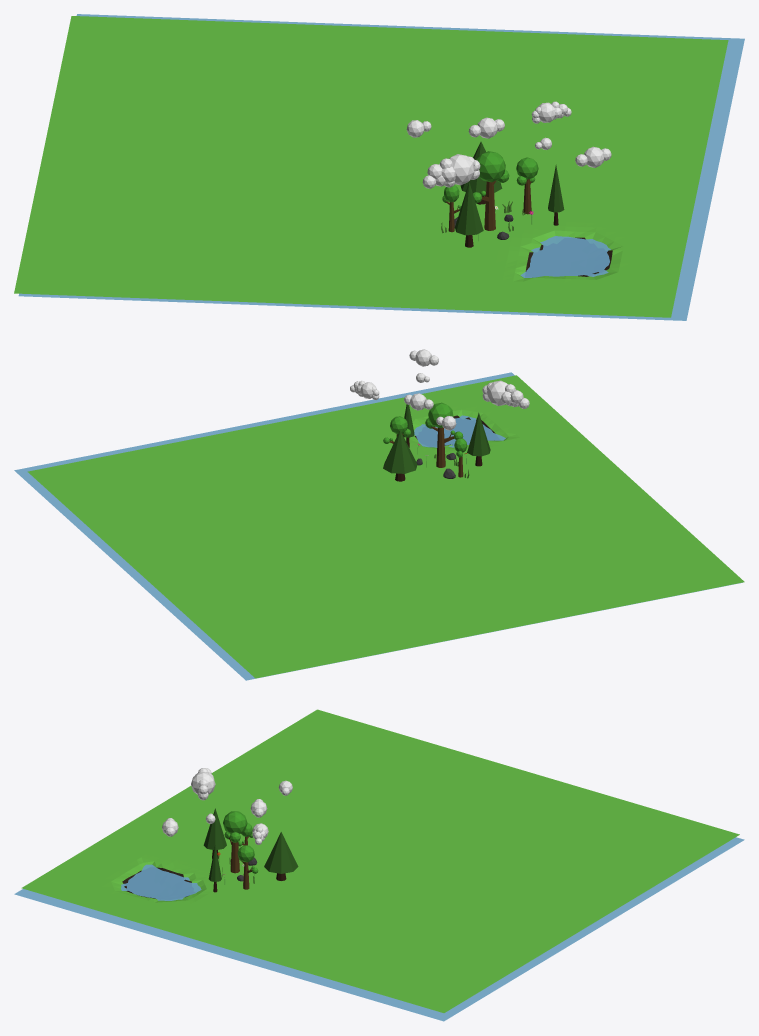
The model's file is assets.dae.
The picture shows the model from 3 angles, top to bottom: view 1: azimuth 30°, elevation 25°; view 2: azimuth 150°, elevation 25°; view 3: azimuth 270°, elevation 25°; orthographic projection. The views are drawn at different scales.
Parts seen in each view (by area): view 1: Plane, Plane_001, Icosphere_005, Cylinder, Cylinder_006, Cylinder_001, Icosphere_006, Icosphere_004, Icosphere_008, Cylinder_008; view 2: Plane, Plane_001, Cylinder_007, Cylinder, Icosphere_005, Cylinder_006; view 3: Plane, Plane_001, Cylinder_007, Cylinder, Icosphere_005, Cylinder_006.
Boxes of the visible parts, bbox=[...] form: Plane: bbox=[14, 16, 728, 317]; Plane_001: bbox=[18, 14, 744, 320]; Icosphere_005: bbox=[422, 154, 480, 188]; Cylinder: bbox=[473, 151, 509, 230]; Cylinder_006: bbox=[455, 182, 483, 247]; Cylinder_001: bbox=[516, 157, 538, 214]; Icosphere_006: bbox=[531, 101, 571, 123]; Icosphere_004: bbox=[468, 117, 504, 138]; Icosphere_008: bbox=[575, 146, 611, 167]; Cylinder_008: bbox=[548, 164, 564, 225]; Plane: bbox=[27, 375, 744, 678]; Plane_001: bbox=[14, 372, 742, 680]; Cylinder_007: bbox=[383, 430, 417, 481]; Cylinder: bbox=[425, 402, 463, 467]; Icosphere_005: bbox=[482, 380, 529, 408]; Cylinder_006: bbox=[467, 412, 490, 466]; Plane: bbox=[21, 709, 739, 1012]; Plane_001: bbox=[14, 837, 744, 1021]; Cylinder_007: bbox=[264, 832, 298, 880]; Cylinder: bbox=[223, 811, 247, 873]; Icosphere_005: bbox=[191, 768, 215, 800]; Cylinder_006: bbox=[203, 808, 226, 858].
Size of the model in its own units: 156 by 156 by 21.11.
